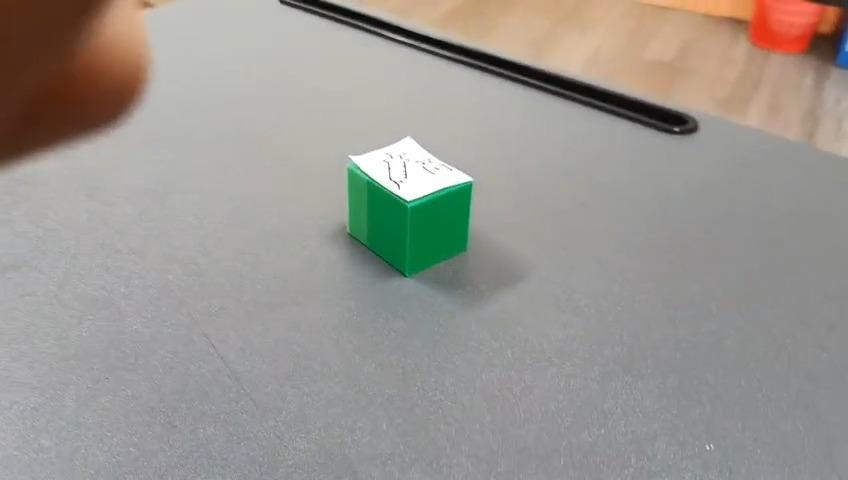antiseptic cream: (344, 134, 474, 278)
